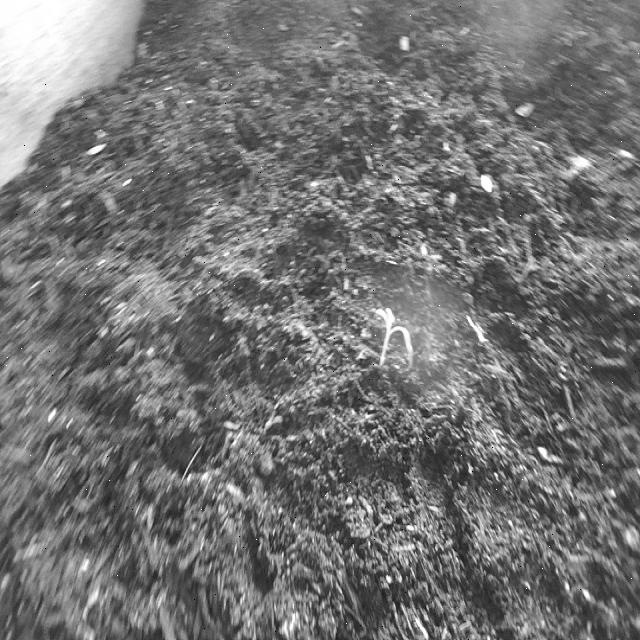Healthy: (372, 295, 417, 388)
